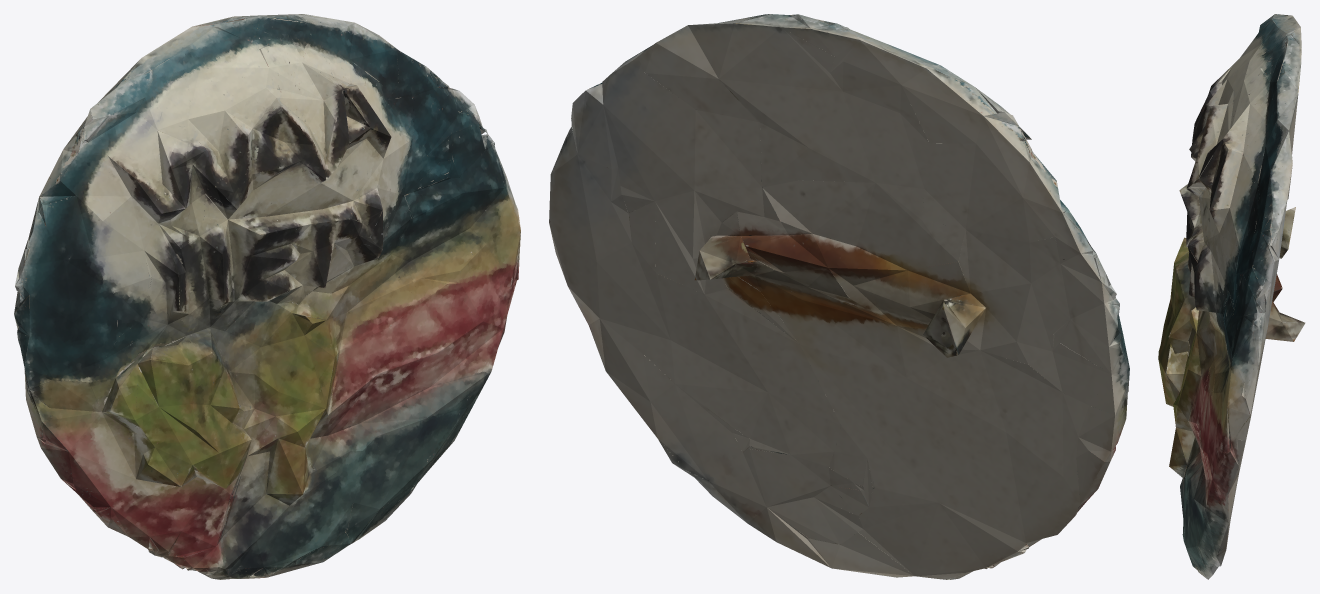
The picture shows the model from 3 angles, left to right: view 1: azimuth 30°, elevation 25°; view 2: azimuth 150°, elevation 25°; view 3: azimuth 270°, elevation 25°; orthographic projection. The views are drawn at different scales.
Parts seen in each view (by area): view 1: WAA Anstecker 1k; view 2: WAA Anstecker 1k; view 3: WAA Anstecker 1k.
Boxes of the visible parts, bbox=[...] form: WAA Anstecker 1k: bbox=[14, 14, 520, 579]; WAA Anstecker 1k: bbox=[549, 14, 1129, 579]; WAA Anstecker 1k: bbox=[1158, 14, 1305, 579].
Size of the model in its own units: 0.0555 by 0.055 by 0.0145.
1 material, 1 textured.
